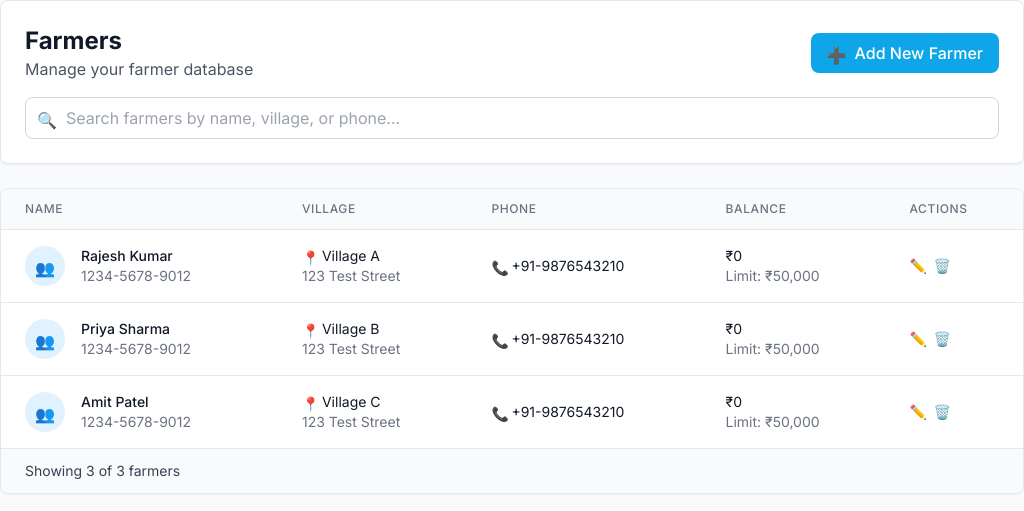
Test case: FarmerList Component › Search Functionality › should filter farmers by village when searching
In the field with placeholder "Search farmers by name, village, or phone...": (512, 118) [25,97,999,139], type "Village B"
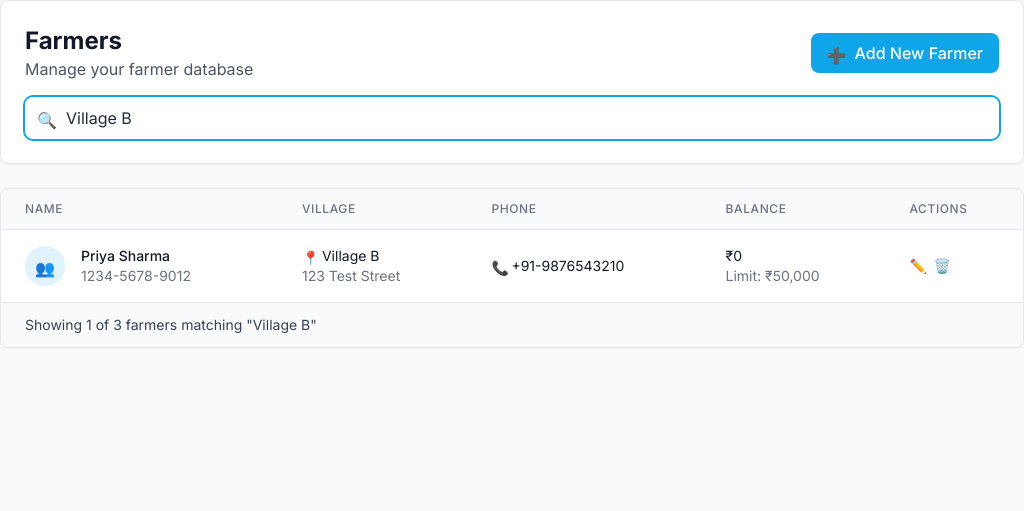
Expected: the text "Priya Sharma" is shown, [81,247,170,264]
Result: the text "Rajesh Kumar" is gone
Result: the text "Amit Patel" is gone
